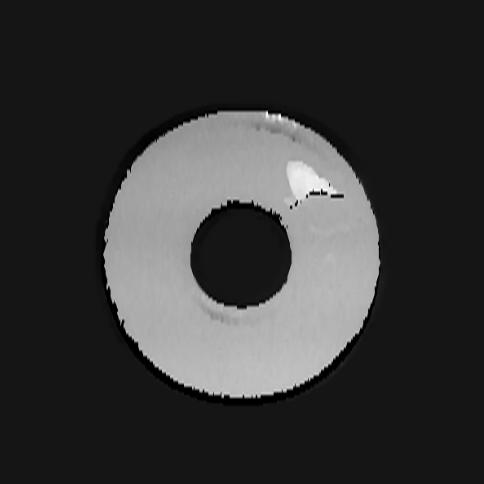defect: (285, 160, 345, 213)
